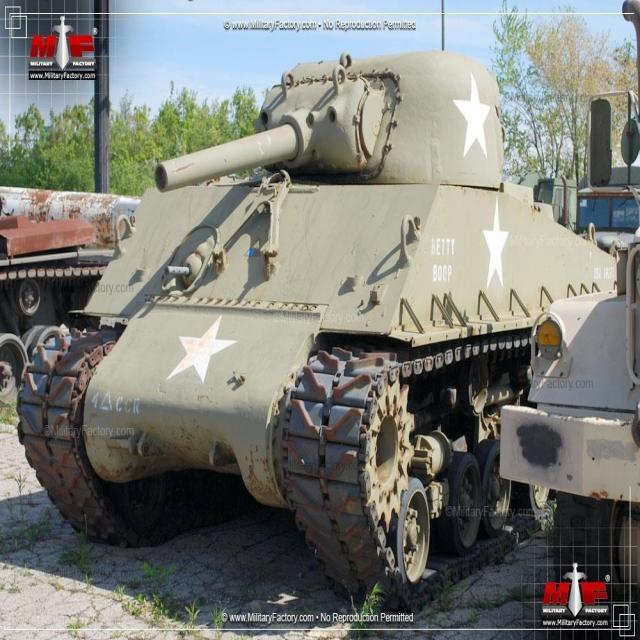Tanks: (14, 45, 492, 596)
